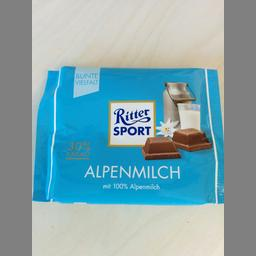chocolate: (32, 66, 222, 204)
